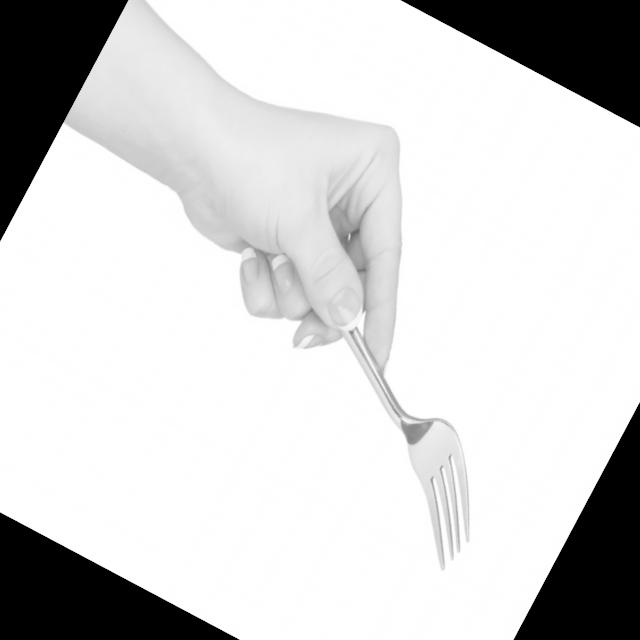fork: (215, 260, 552, 577)
